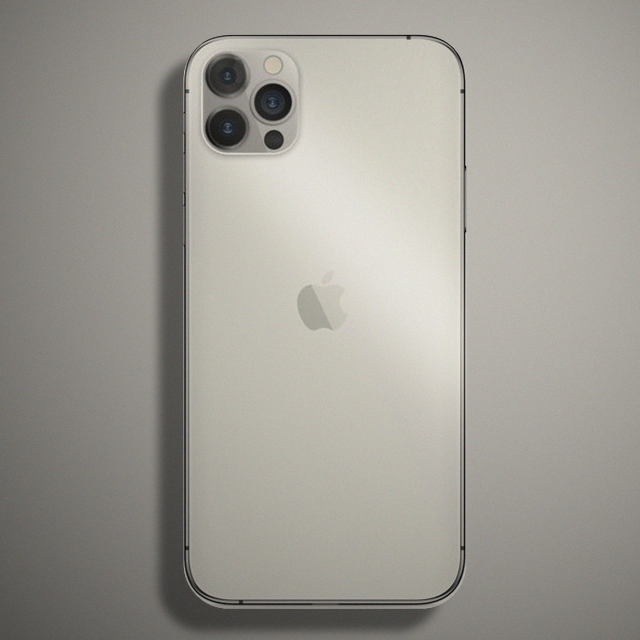iphone_12pro_silver: (160, 17, 503, 629), (193, 47, 308, 160)
